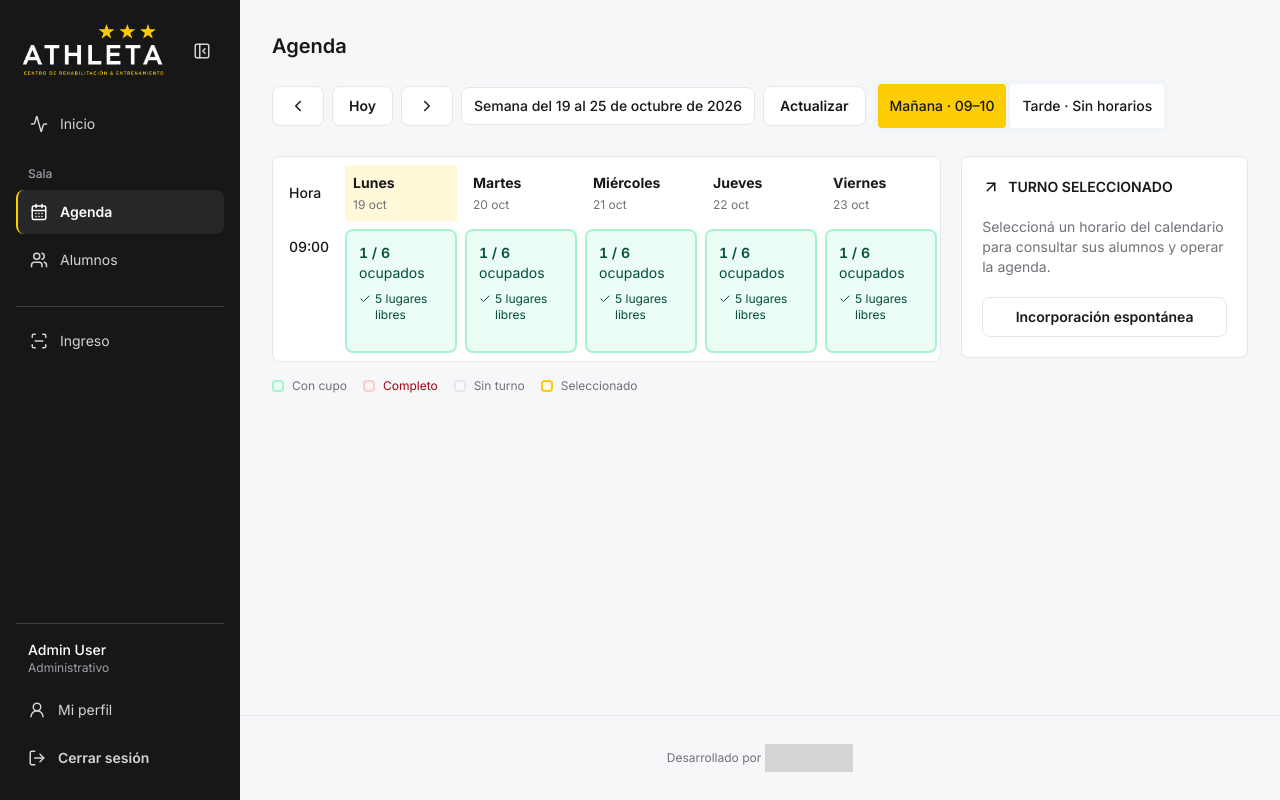
Test: assigns a weekly booking with real identifiers and refreshes the panel
Click the button with aria-label "lunes 09:00:" at (401,291), box [345, 229, 457, 353]
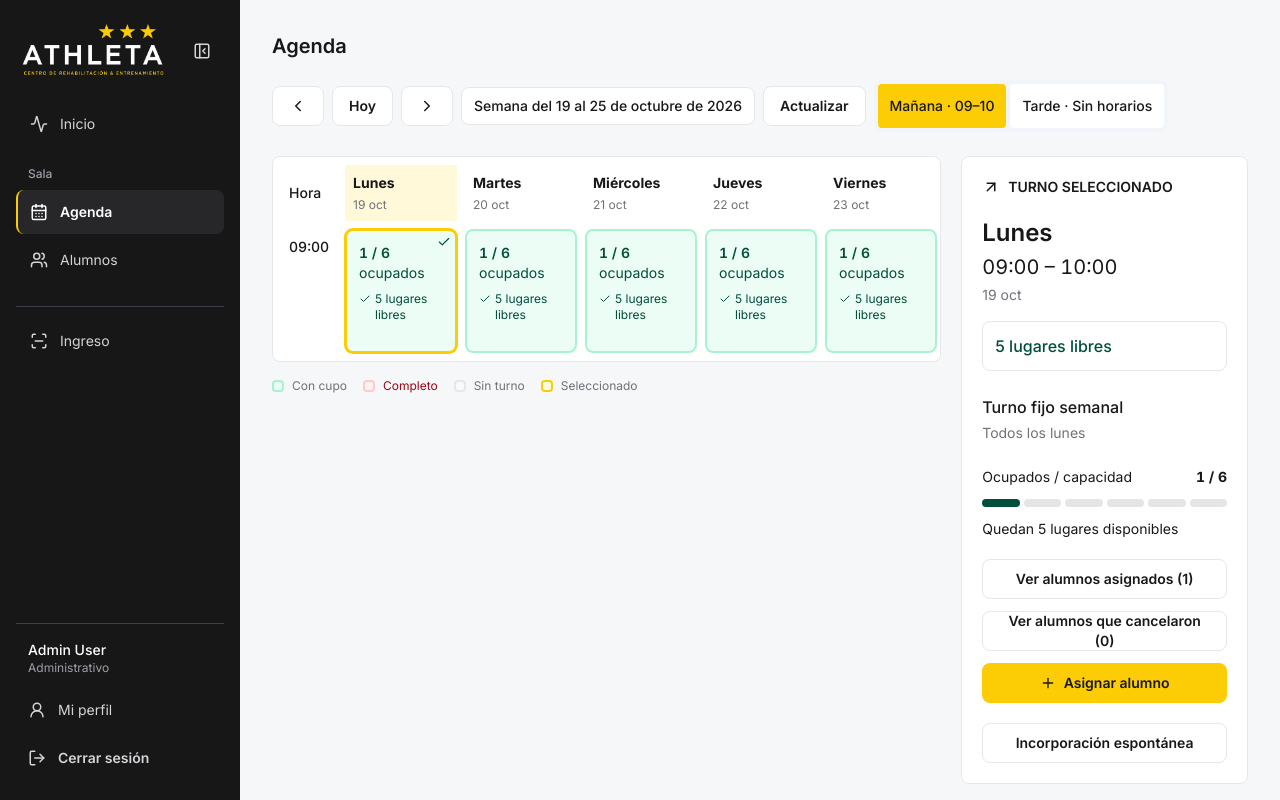
Click the button "Asignar alumno" at (1105,683), box [982, 663, 1227, 703]
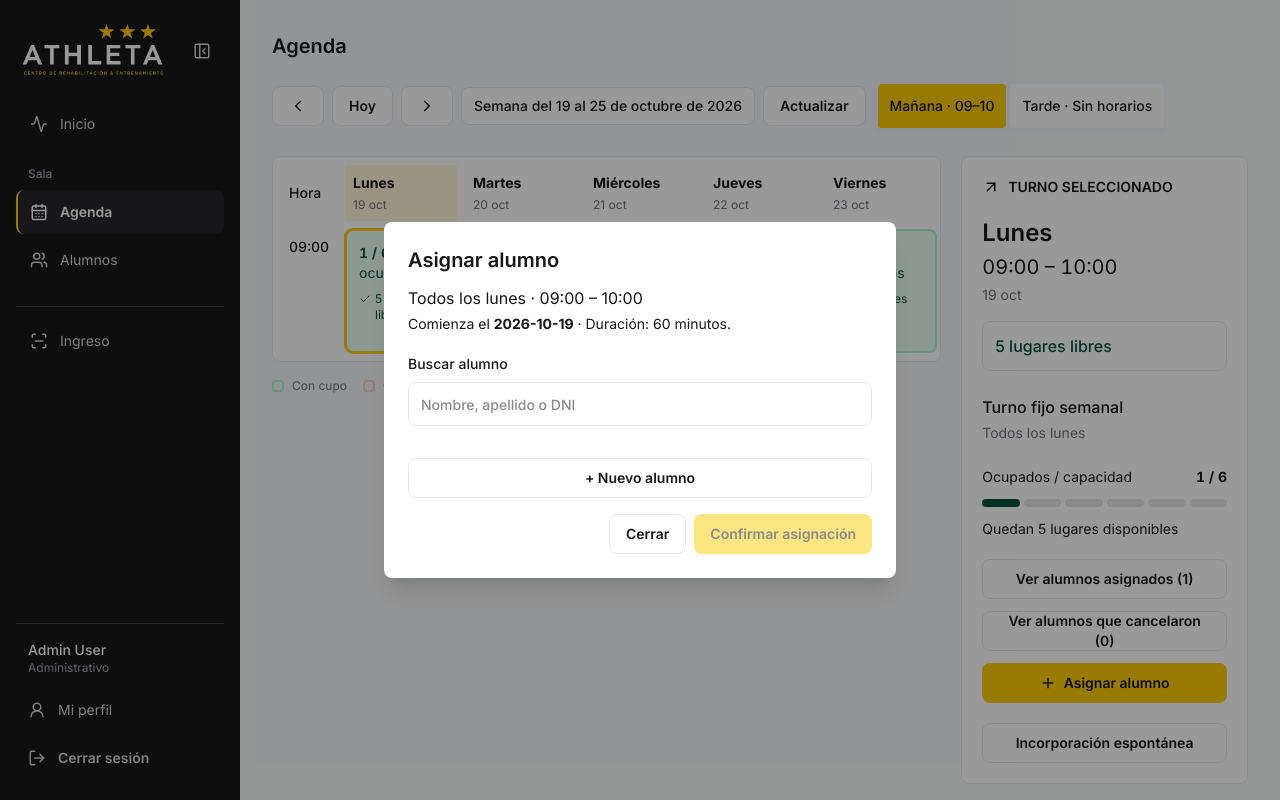
Expected: the text "2026-10-19" is shown, [494, 315, 574, 332]
Type "88000002" into the field labelled "Buscar alumno" at (640,404), box [408, 382, 872, 426]
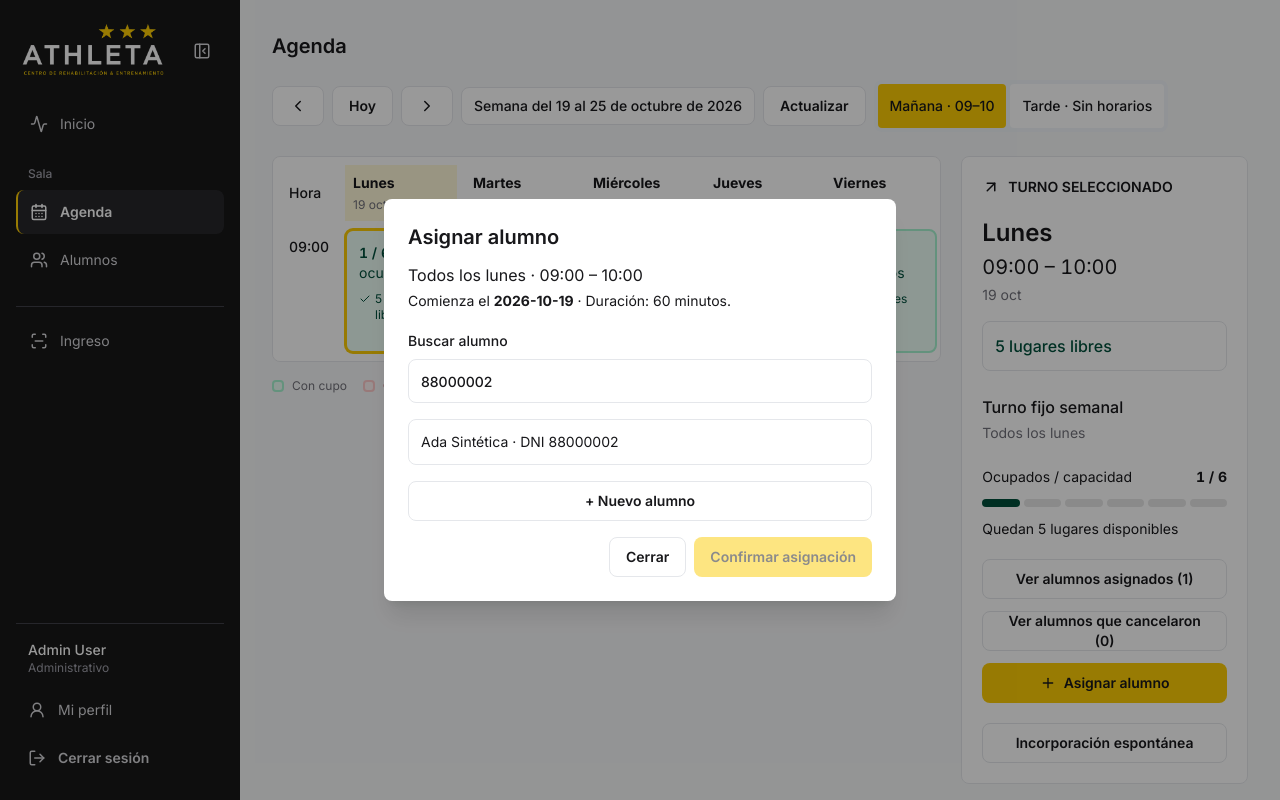
Click the button "Ada Sintética · DNI 88000002" at (480,442), box [408, 419, 872, 465]
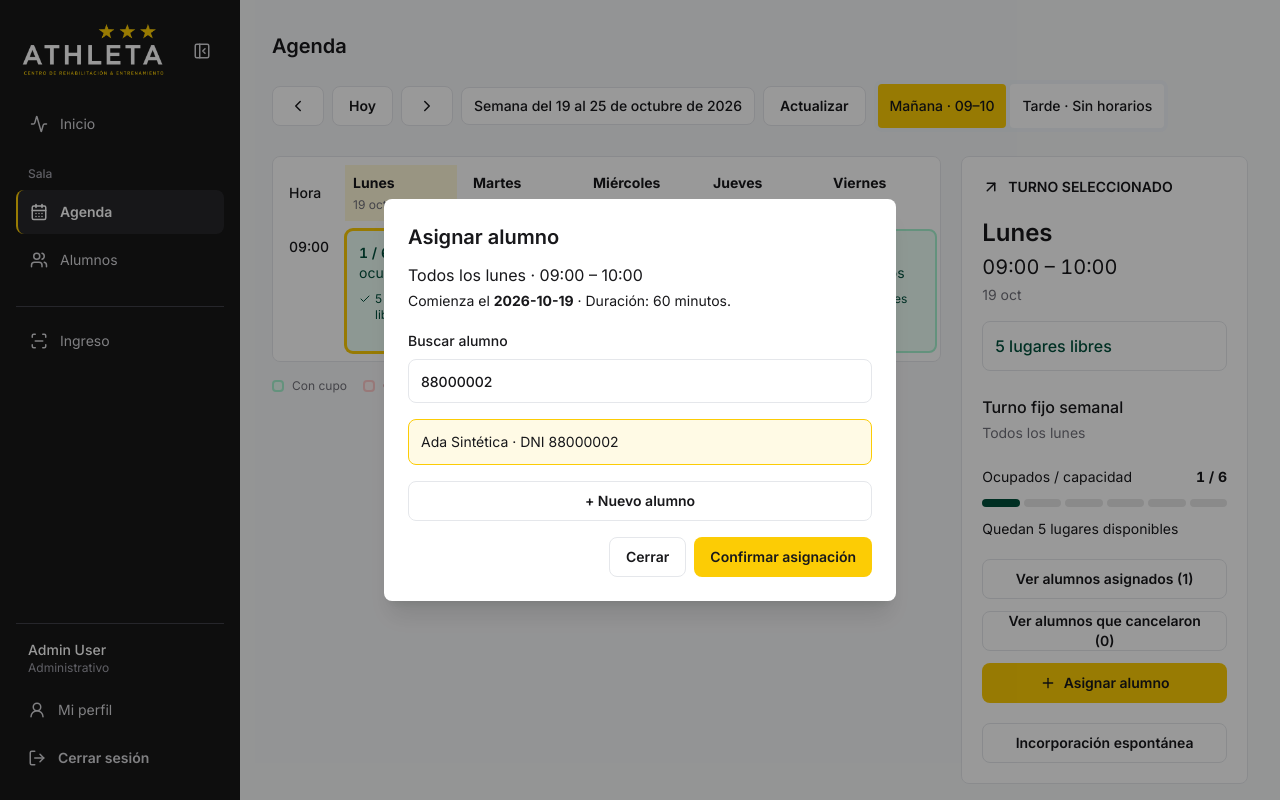
Expected: the button "Confirmar asignación" is enabled
Click the button "Confirmar asignación" at (783,557), box [694, 537, 872, 577]
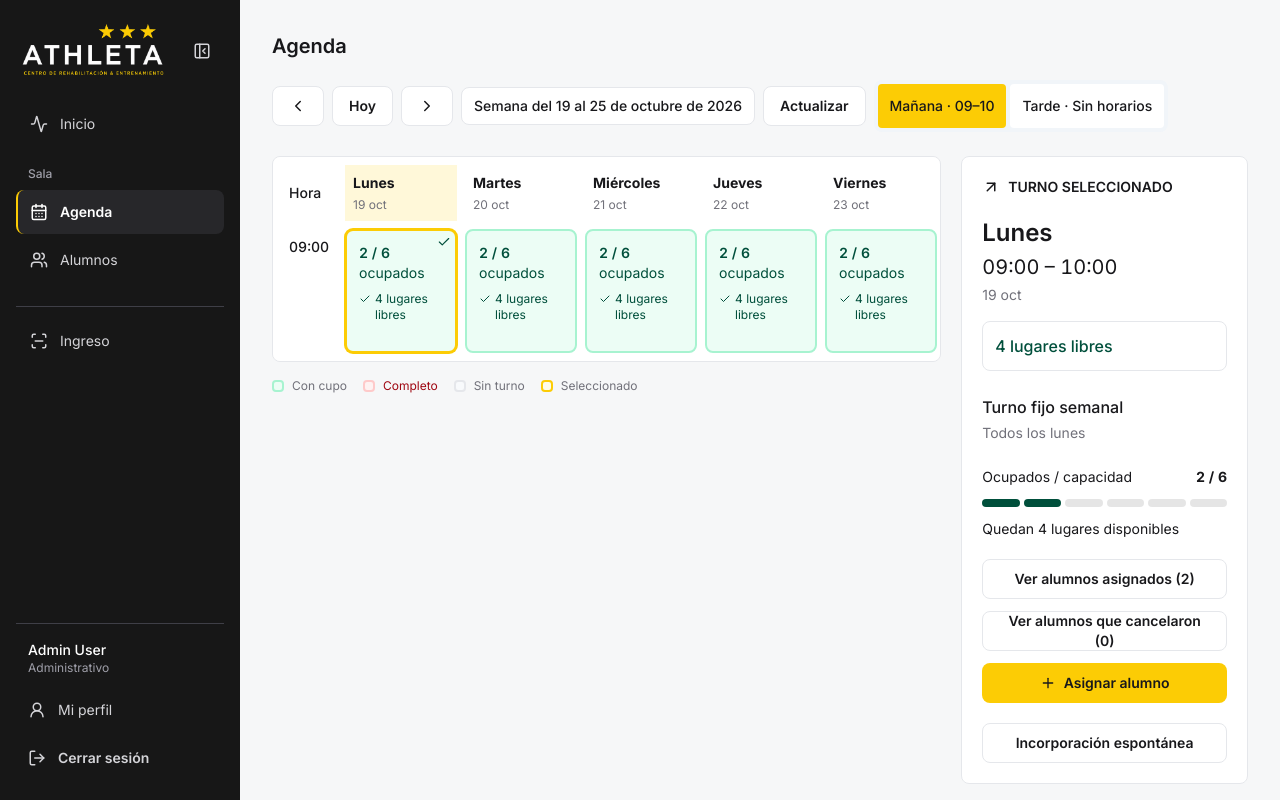
Expected: the dialog is gone
Expected: the text "2 / 6" is shown, [1196, 467, 1227, 487]
Click the button "Ver alumnos asignados (2)" at (1105,579), box [982, 559, 1227, 599]
(page scrolled)
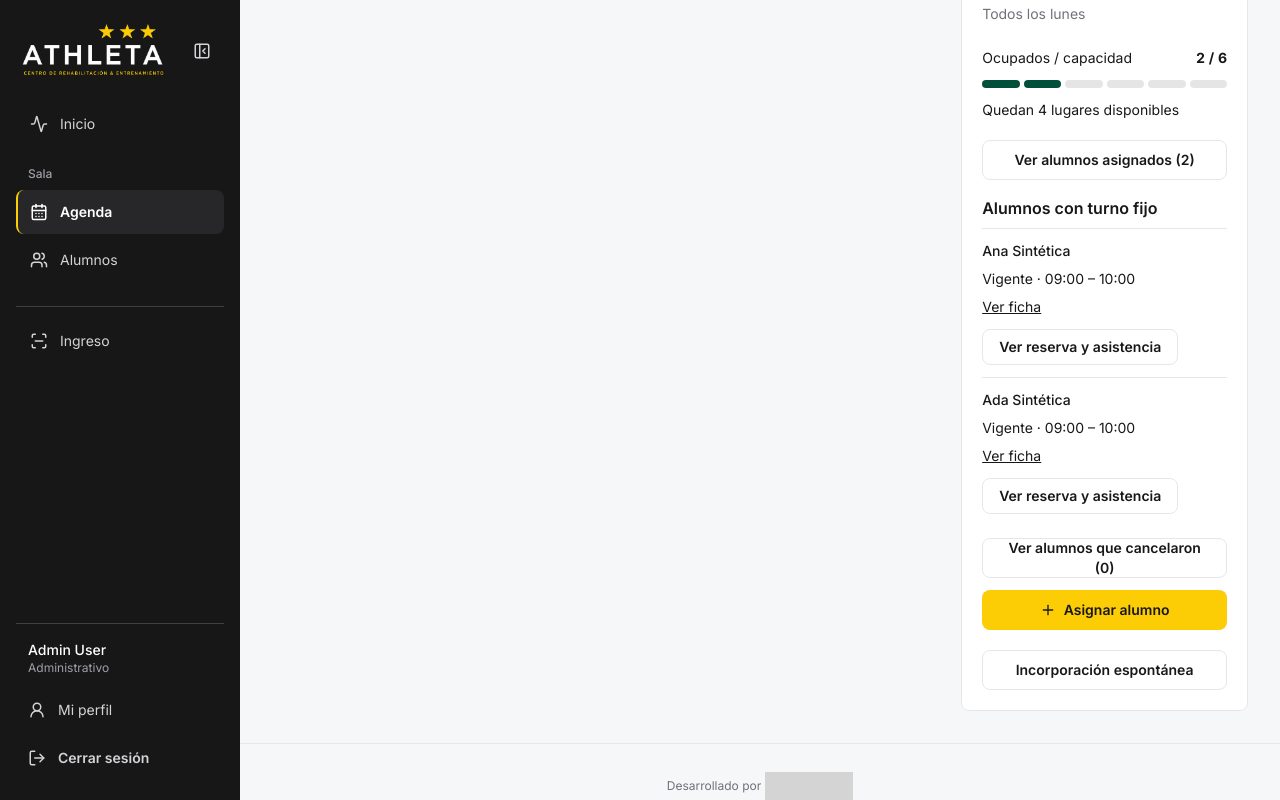
Expected: the text "Ada Sintética" is shown, [982, 391, 1071, 408]
